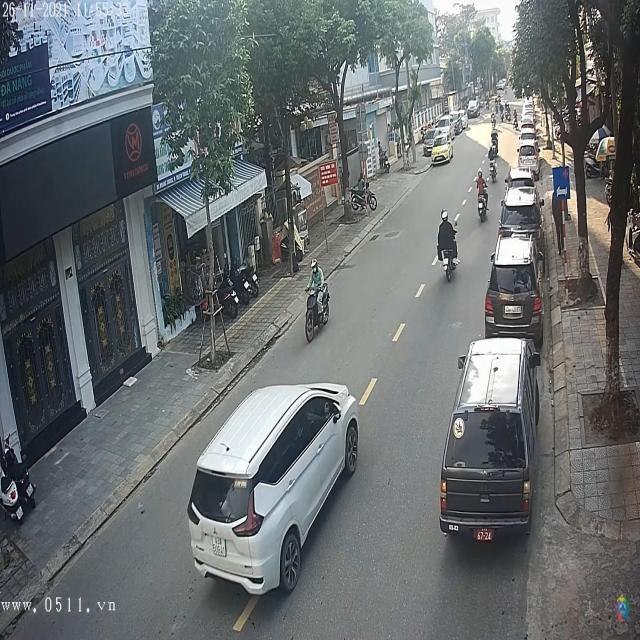car: (186, 384, 368, 597), (440, 341, 543, 543), (486, 242, 542, 337), (498, 193, 544, 238), (468, 99, 480, 117)
motorcycle: (305, 283, 329, 341), (438, 238, 460, 282), (477, 186, 492, 225)
